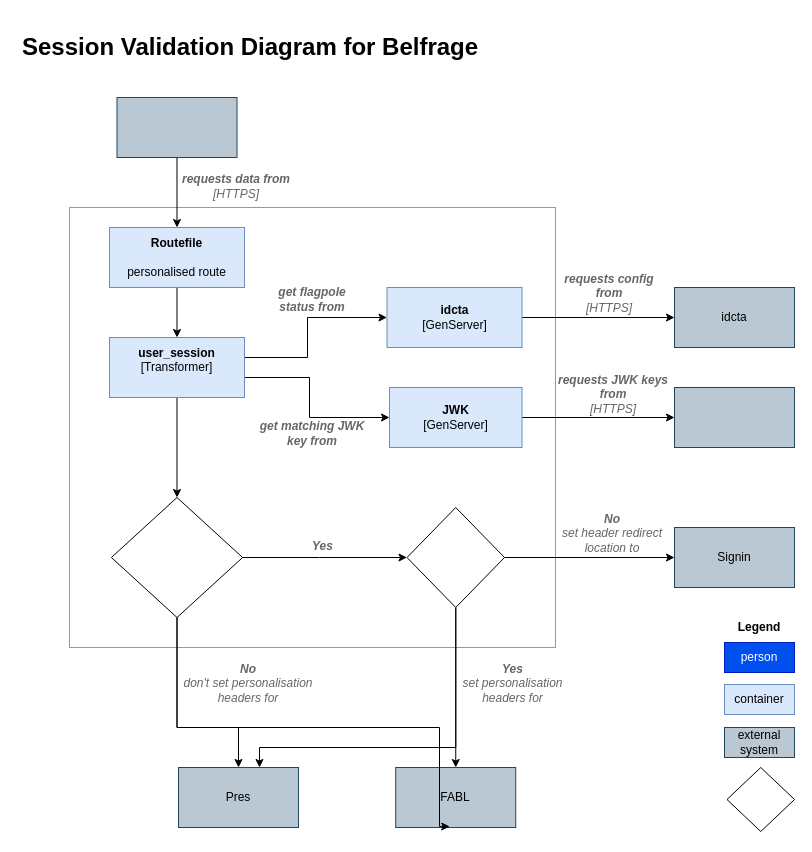
Image size: 812x852. Some labels were removed from this diagram. Each missing label, with the box of its shape:
access token valid?: (406, 506, 504, 608)
Account: (674, 386, 794, 448)
decision: (726, 766, 794, 832)
GTM: (116, 96, 237, 158)
user has id token and flagpole green?: (110, 496, 243, 618)
